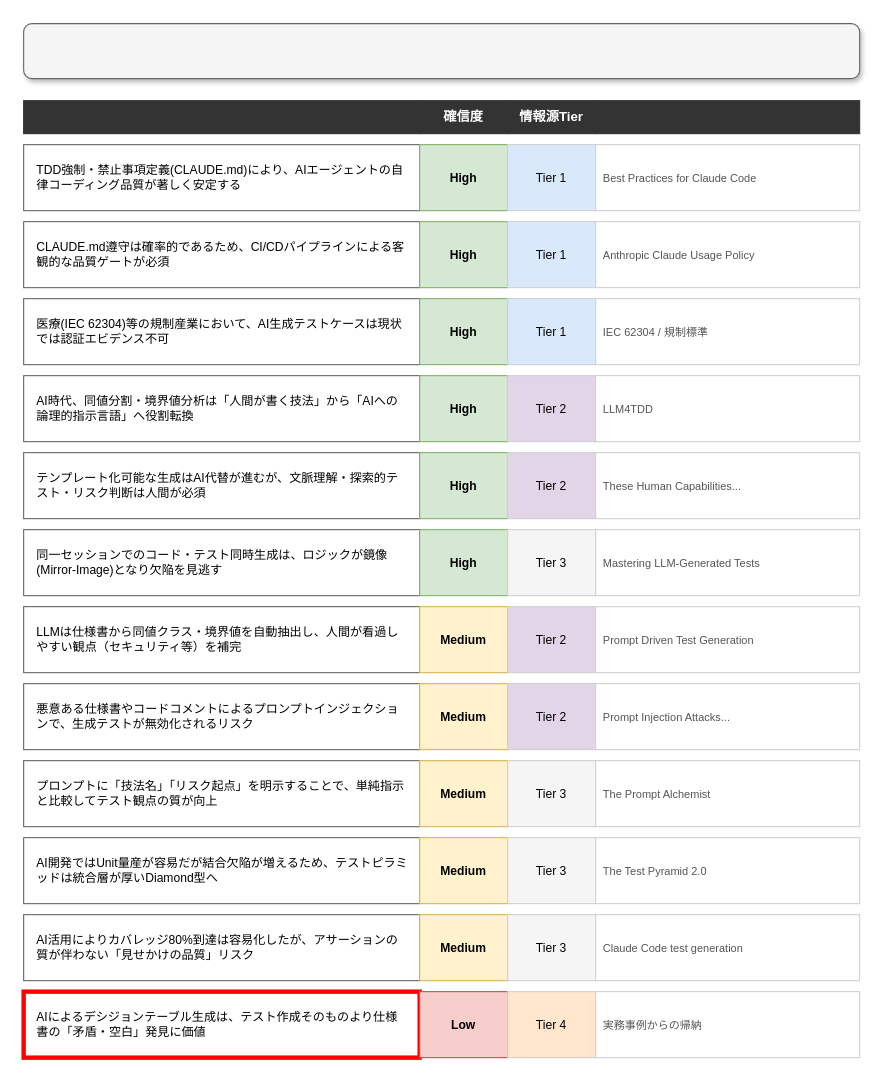
Image size: 886x1079. Some labels were removed from this diagram. Each missing label, with the centre of its shape:
"主張・発見 (Claim)" belongs at (221,117).
"主要ソース / 出典" belongs at (727,117).
"確信度ヒートマップ：Claude Code時代のAI活用システムテスト技法" belongs at (442,52).
